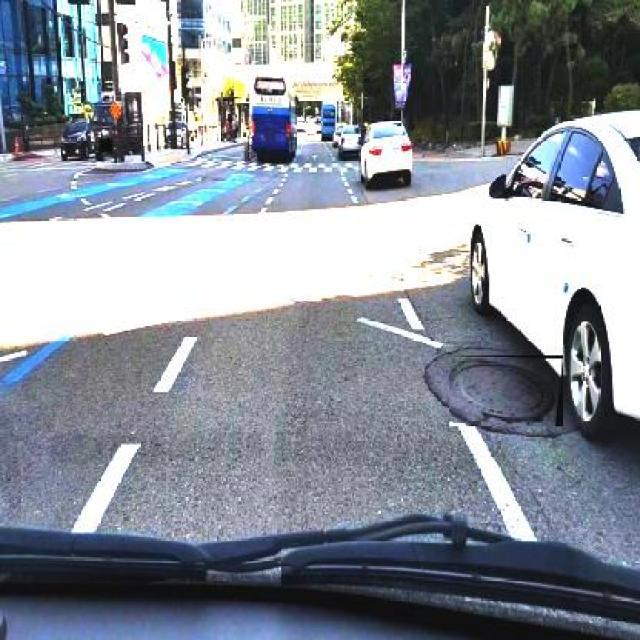Manhole: (449, 356, 563, 426)
